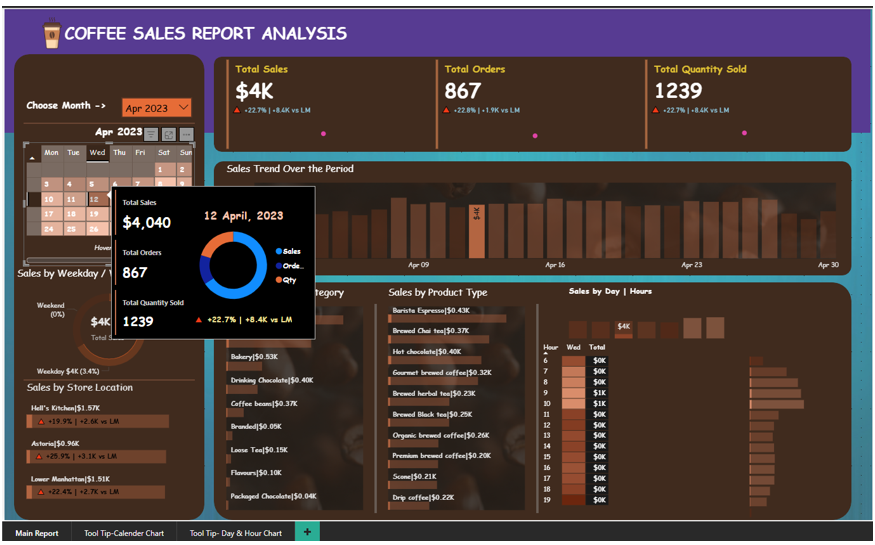

This screenshot's page, from the dashboard's own definition file:
{"tool":"powerbi","page":{"name":"Main Report","canvas":[1460,860],"ordinal":0},"visuals":[{"type":"shape","box":[0,0,1456,208],"z":0},{"type":"shape","box":[16,76,320,784],"z":1000},{"type":"shape","box":[352,80,1072,160],"z":2000},{"type":"textbox","box":[96,16,496,48],"z":3000},{"type":"cardVisual","fields":{"Data":["Transactions.Total Sales","Transactions.Total Sales"]},"box":[368,80,328,160],"z":4000,"group":"g1"},{"type":"cardVisual","fields":{"Data":["Transactions.Total Orders"]},"box":[720,80,336,160],"z":4000,"group":"g2"},{"type":"cardVisual","fields":{"Data":["Transactions.Total Quantity Sold"]},"box":[1072,80,336,160],"z":4000,"group":"g3"},{"type":"slicer","fields":{"Values":["Date Table.Month Year"]},"box":[192,144,128,48],"z":4000},{"type":"group","id":"g1","title":"Group 1","box":[368,80,328,160],"z":5000},{"type":"group","id":"g2","title":"Group 1","box":[720,80,336,160],"z":6000},{"type":"lineChart","fields":{"Category":["Date Table.Date.Variation.Date Hierarchy.Year","Date Table.Date.Variation.Date Hierarchy.Quarter","Date Table.Date.Variation.Date Hierarchy.Month","Date Table.Date.Variation.Date Hierarchy.Day"],"Y":["Transactions.Total Sales"]},"box":[376.6,160,319.4,80],"z":6000,"group":"g1"},{"type":"lineChart","fields":{"Category":["Date Table.Date.Variation.Date Hierarchy.Year","Date Table.Date.Variation.Date Hierarchy.Quarter","Date Table.Date.Variation.Date Hierarchy.Month","Date Table.Date.Variation.Date Hierarchy.Day"],"Y":["Transactions.Total Orders"]},"box":[728.8,160,327.2,80],"z":6000,"group":"g2"},{"type":"lineChart","fields":{"Category":["Date Table.Date.Variation.Date Hierarchy.Year","Date Table.Date.Variation.Date Hierarchy.Quarter","Date Table.Date.Variation.Date Hierarchy.Month","Date Table.Date.Variation.Date Hierarchy.Day"],"Y":["Transactions.Total Quantity Sold"]},"box":[1080.8,160,327.2,80],"z":6000,"group":"g3"},{"type":"group","id":"g3","title":"Group 1","box":[1072,80,336,160],"z":7000},{"type":"shape","box":[352,256,1072,192],"z":8000},{"type":"pivotTable","fields":{"Rows":["Date Table.Week Number"],"Columns":["Date Table.Day Name"],"Values":["Min(Date Table.Day Number)"]},"box":[32,224,288,208],"z":9000},{"type":"cardVisual","fields":{"Data":["Transactions.Foot Note"]},"box":[128,368,208,48],"z":10000},{"type":"card","fields":{"Values":["Min(Date Table.Month Year)"]},"box":[144,192,96,32],"z":11000},{"type":"shape","box":[32,416,288,32],"z":12000},{"type":"shape","box":[32,608,288,32],"z":13000},{"type":"shape","box":[32,176,288,32],"z":14000},{"type":"donutChart","title":"Sales by Weekday / Weekend","fields":{"Category":["Date Table.Weekday / Weekend"],"Y":["Transactions.Total Sales"]},"box":[16,432,320,192],"z":15000},{"type":"cardVisual","fields":{"Data":["Transactions.Total Sales"]},"box":[128,496,96,80],"z":16000},{"type":"clusteredBarChart","title":"Sales by Store Location","fields":{"Category":["Transactions.store_location"],"Y":["Transactions.Placeholder","Transactions.Total Sales"]},"box":[32,624,288,208],"z":17000},{"type":"columnChart","title":"Sales Trend Over the Period","fields":{"Category":["Transactions.transaction_date"],"Y":["Transactions.Total Sales"]},"box":[368,256,1040,192],"z":18000},{"type":"shape","box":[352,460,1072,400],"z":19000},{"type":"clusteredBarChart","title":"Sales by Product Category","fields":{"Y":["Transactions.Placeholder","Transactions.Total Sales"],"Category":["Transactions.product_category"]},"box":[368,464,240,384],"z":20000},{"type":"shape","box":[608,496,32,352],"z":21000},{"type":"clusteredBarChart","title":"Sales by Product Type","fields":{"Y":["Transactions.Placeholder","Transactions.Total Sales"],"Category":["Transactions.product_type"]},"box":[640,464,240,384],"z":22000},{"type":"shape","box":[880,496,32,352],"z":23000},{"type":"pivotTable","fields":{"Rows":["Transactions.Hour"],"Columns":["Date Table.Day Name"],"Values":["Transactions.Total Sales"]},"box":[896,556,368,304],"z":24000},{"type":"barChart","fields":{"Category":["Transactions.Hour"],"Y":["Transactions.Total Sales"]},"box":[1248,572,128,288],"z":25000},{"type":"columnChart","title":"Sales by Day | Hours","fields":{"Y":["Transactions.Total Sales"],"Category":["Date Table.Day Name"]},"box":[944,464,272,96],"z":26000},{"type":"textbox","box":[32,144,160,48],"z":27000},{"type":"image","box":[48,0,64,80],"z":28000}]}

Visuals, with their boxes on the page's 1460x860 design canvas (x1, y1, x2, y2). These are canvas units, not pixel positions in the 875x545 screenshot, which may show the page scaled, cropped or inside an application window:
shape: bbox=[0, 0, 1456, 208]
shape: bbox=[16, 76, 336, 860]
shape: bbox=[352, 80, 1424, 240]
textbox: bbox=[96, 16, 592, 64]
cardVisual - Transactions.Total Sales x Transactions.Total Sales: bbox=[368, 80, 696, 240]
cardVisual - Transactions.Total Orders: bbox=[720, 80, 1056, 240]
cardVisual - Transactions.Total Quantity Sold: bbox=[1072, 80, 1408, 240]
slicer - Date Table.Month Year: bbox=[192, 144, 320, 192]
"Group 1" group: bbox=[368, 80, 696, 240]
"Group 1" group: bbox=[720, 80, 1056, 240]
lineChart - Date Table.Date.Variation.Date Hierarchy.Year x Date Table.Date.Variation.Date Hierarchy.Quarter: bbox=[377, 160, 696, 240]
lineChart - Date Table.Date.Variation.Date Hierarchy.Year x Date Table.Date.Variation.Date Hierarchy.Quarter: bbox=[729, 160, 1056, 240]
lineChart - Date Table.Date.Variation.Date Hierarchy.Year x Date Table.Date.Variation.Date Hierarchy.Quarter: bbox=[1081, 160, 1408, 240]
"Group 1" group: bbox=[1072, 80, 1408, 240]
shape: bbox=[352, 256, 1424, 448]
pivotTable - Date Table.Week Number x Date Table.Day Name: bbox=[32, 224, 320, 432]
cardVisual - Transactions.Foot Note: bbox=[128, 368, 336, 416]
card - Min(Date Table.Month Year): bbox=[144, 192, 240, 224]
shape: bbox=[32, 416, 320, 448]
shape: bbox=[32, 608, 320, 640]
shape: bbox=[32, 176, 320, 208]
"Sales by Weekday / Weekend" donutChart: bbox=[16, 432, 336, 624]
cardVisual - Transactions.Total Sales: bbox=[128, 496, 224, 576]
"Sales by Store Location" clusteredBarChart: bbox=[32, 624, 320, 832]
"Sales Trend Over the Period" columnChart: bbox=[368, 256, 1408, 448]
shape: bbox=[352, 460, 1424, 860]
"Sales by Product Category" clusteredBarChart: bbox=[368, 464, 608, 848]
shape: bbox=[608, 496, 640, 848]
"Sales by Product Type" clusteredBarChart: bbox=[640, 464, 880, 848]
shape: bbox=[880, 496, 912, 848]
pivotTable - Transactions.Hour x Date Table.Day Name: bbox=[896, 556, 1264, 860]
barChart - Transactions.Hour x Transactions.Total Sales: bbox=[1248, 572, 1376, 860]
"Sales by Day | Hours" columnChart: bbox=[944, 464, 1216, 560]
textbox: bbox=[32, 144, 192, 192]
image: bbox=[48, 0, 112, 80]
